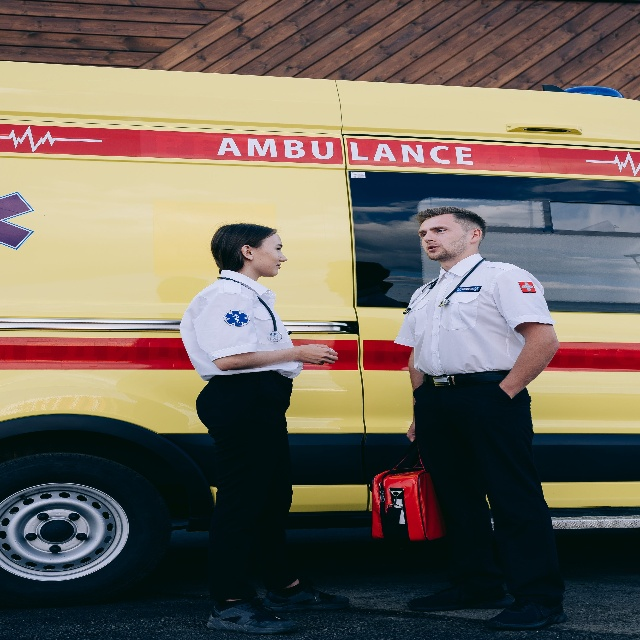Sin_guantes: (302, 342, 340, 375), (406, 419, 416, 440)
